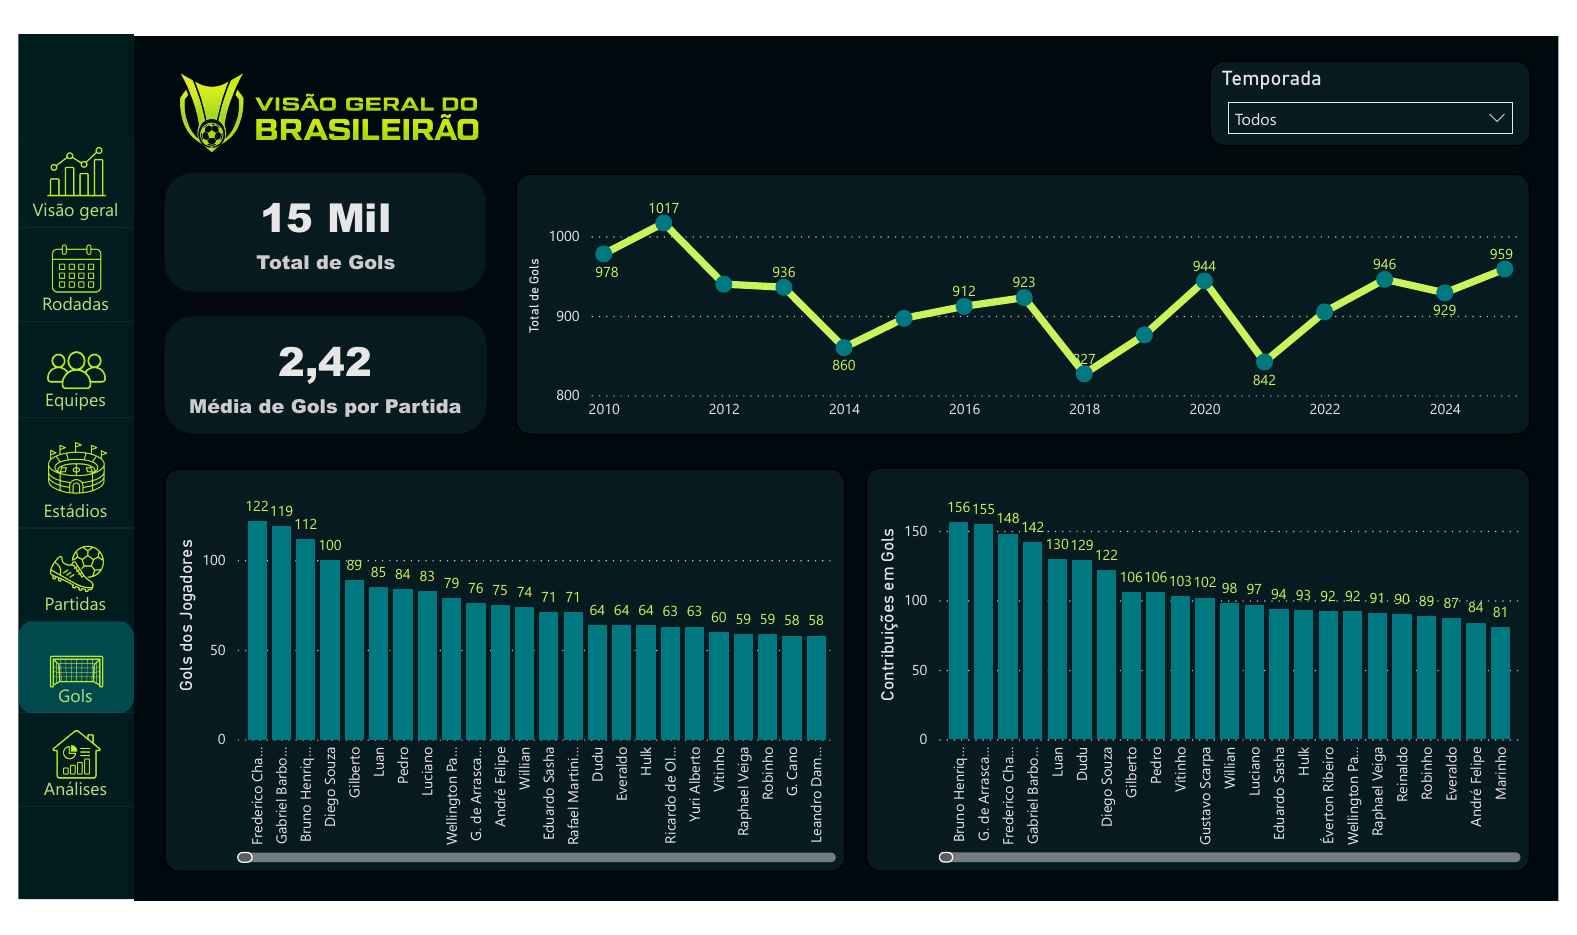

What the dashboard file says about the page in this screenshot:
{"tool":"powerbi","page":{"name":"Gols","canvas":[1280,720],"ordinal":5},"visuals":[{"type":"shape","box":[0,0,95.8,719.3],"z":0},{"type":"shape","box":[95.9,1,1184.1,719.2],"z":1000},{"type":"actionButton","box":[0,86.2,95.8,73.4],"z":2000},{"type":"actionButton","box":[0,159.6,95.8,78.7],"z":3000},{"type":"actionButton","box":[0,238.3,95.8,79.8],"z":4000},{"type":"actionButton","box":[0,318.1,95.8,91.5],"z":5000},{"type":"actionButton","box":[0,409.6,95.8,78.7],"z":6000},{"type":"actionButton","box":[0,488.4,95.8,75.5],"z":7000},{"type":"actionButton","box":[0,563.9,95.8,77.7],"z":8000},{"type":"image","box":[105.8,10,300,114.9],"z":9000},{"type":"image","box":[12.8,79.8,70.2,70.2],"z":10000},{"type":"image","box":[12.8,159.6,70.2,70.2],"z":11000},{"type":"image","box":[12.8,563.9,70.2,70.2],"z":12000},{"type":"image","box":[12.8,324.5,70.2,70.2],"z":13000},{"type":"image","box":[12.8,409.6,70.2,70.2],"z":14000},{"type":"image","box":[12.6,494.1,70,70],"z":15000},{"type":"image","box":[12.8,243.7,70.2,70.2],"z":16000},{"type":"shape","box":[120.9,114.7,266.8,99],"z":17000},{"type":"shape","box":[121.7,234.5,267.7,98.5],"z":18000},{"type":"card","fields":{"Values":["warehouse fact_match.Total de Gols"]},"box":[135.5,123,239.7,82.3],"z":19000},{"type":"card","fields":{"Values":["warehouse fact_match.Media de gol"]},"box":[136.1,242.3,239,83],"z":20000},{"type":"lineChart","fields":{"Category":["warehouse dim_season.season_key"],"Y":["warehouse fact_match.Total de Gols"]},"box":[413.8,116.2,843,216.8],"z":21000},{"type":"slicer","title":"Temporada","fields":{"Values":["warehouse dim_season.season_key"]},"box":[990.2,21.9,266.8,70.9],"z":22000},{"type":"clusteredColumnChart","fields":{"Category":["warehouse dim_player.player_name"],"Y":["warehouse fact_player_season.Gols dos Jogadores"]},"box":[121.7,360.7,566.4,335.2],"z":23000},{"type":"clusteredColumnChart","fields":{"Category":["warehouse dim_player.player_name"],"Y":["warehouse fact_player_season.Contribuições em Gols"]},"box":[704.7,359.6,552,336.3],"z":24000}]}

Visuals, with their boxes on the page's 1280x720 design canvas (x1, y1, x2, y2). These are canvas units, not pixel positions in the 1577x935 screenshot, which may show the page scaled, cropped or inside an application window:
shape: locate(0, 0, 96, 719)
shape: locate(96, 1, 1280, 720)
actionButton: locate(0, 86, 96, 160)
actionButton: locate(0, 160, 96, 238)
actionButton: locate(0, 238, 96, 318)
actionButton: locate(0, 318, 96, 410)
actionButton: locate(0, 410, 96, 488)
actionButton: locate(0, 488, 96, 564)
actionButton: locate(0, 564, 96, 642)
image: locate(106, 10, 406, 125)
image: locate(13, 80, 83, 150)
image: locate(13, 160, 83, 230)
image: locate(13, 564, 83, 634)
image: locate(13, 324, 83, 395)
image: locate(13, 410, 83, 480)
image: locate(13, 494, 83, 564)
image: locate(13, 244, 83, 314)
shape: locate(121, 115, 388, 214)
shape: locate(122, 234, 389, 333)
card - warehouse fact_match.Total de Gols: locate(136, 123, 375, 205)
card - warehouse fact_match.Media de gol: locate(136, 242, 375, 325)
lineChart - warehouse dim_season.season_key x warehouse fact_match.Total de Gols: locate(414, 116, 1257, 333)
"Temporada" slicer: locate(990, 22, 1257, 93)
clusteredColumnChart - warehouse dim_player.player_name x warehouse fact_player_season.Gols dos Jogadores: locate(122, 361, 688, 696)
clusteredColumnChart - warehouse dim_player.player_name x warehouse fact_player_season.Contribuições em Gols: locate(705, 360, 1257, 696)
